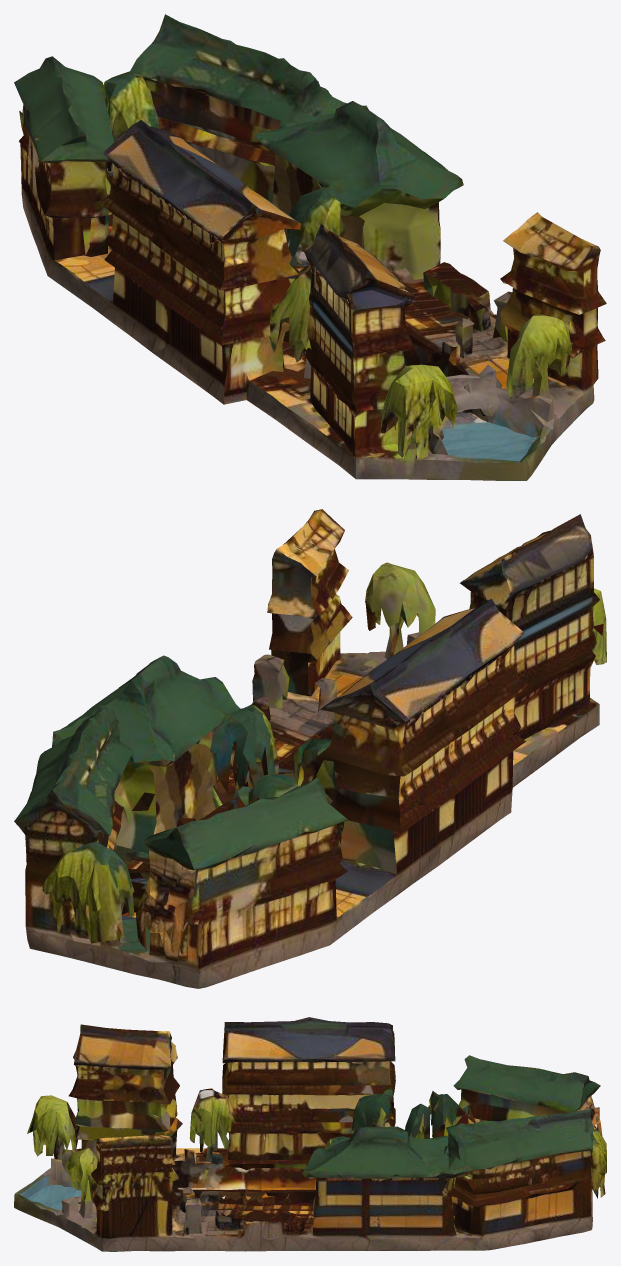
Rendered from kinosaki-onsen.glb.
3 renders of one model, top to bottom at view 1: azimuth 30°, elevation 25°; view 2: azimuth 150°, elevation 25°; view 3: azimuth 270°, elevation 25°, orthographic. The views are drawn at different scales.
Parts seen in each view (by area): view 1: logan-textured.obj; view 2: logan-textured.obj; view 3: logan-textured.obj.
Part boxes in pixels (bbox=[...]): logan-textured.obj: bbox=[14, 14, 606, 480]; logan-textured.obj: bbox=[14, 509, 606, 988]; logan-textured.obj: bbox=[14, 1017, 606, 1251].
Bounding box in the file's own units: 0.4251 × 0.2701 × 1.
Materials: 1 (1 with a texture image).
